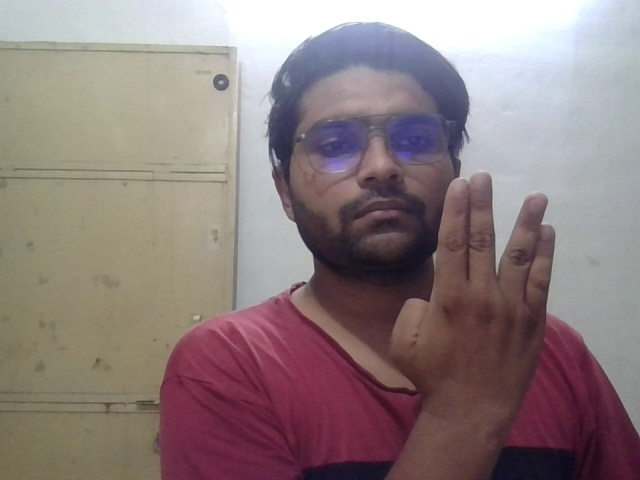LiveLong: (429, 168, 566, 386)
